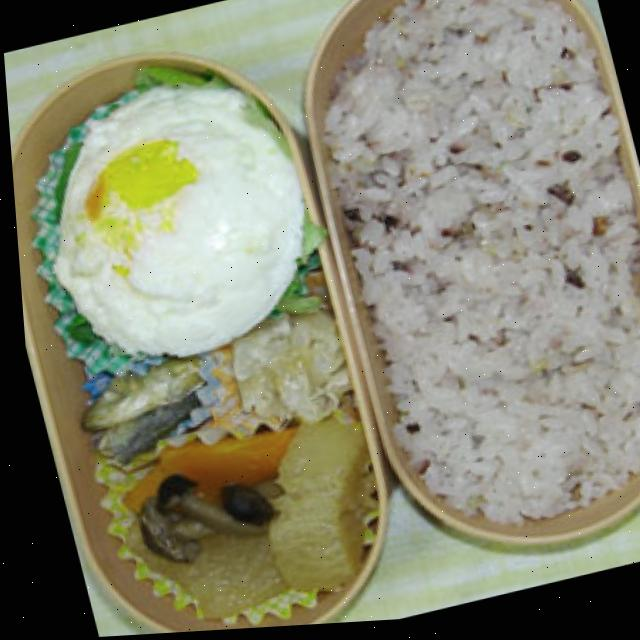鸡蛋料理: (17, 71, 331, 373)
